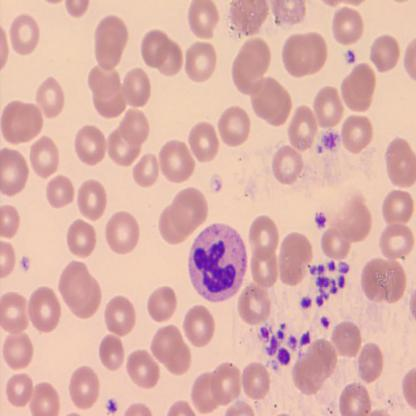Segmented neutrophil: (188, 222, 247, 303)
